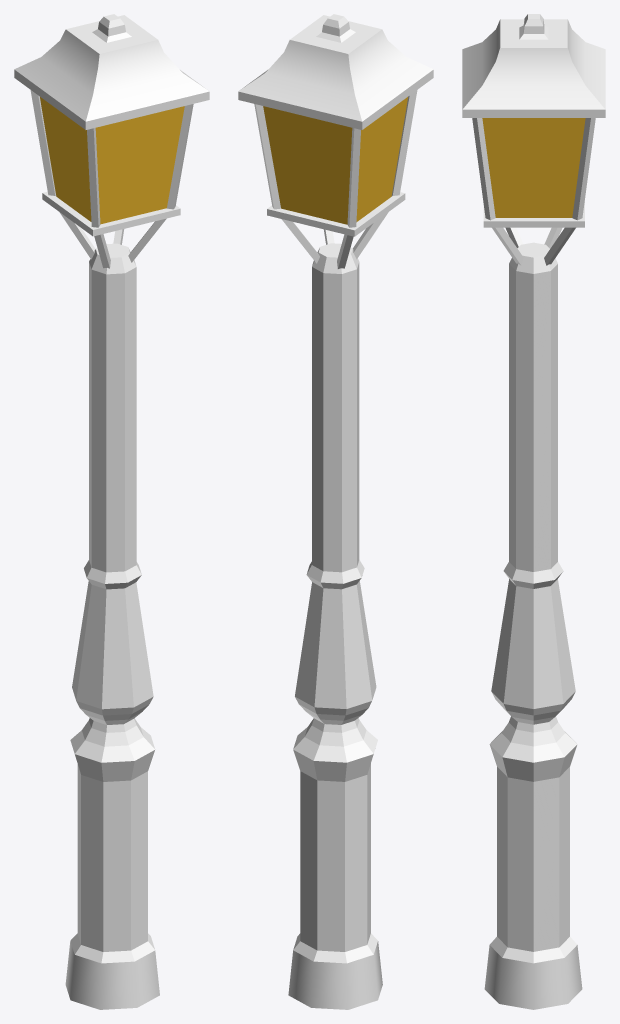
Rendered from street lamp.fbx.
The picture shows the model from 3 angles, left to right: view 1: azimuth 30°, elevation 25°; view 2: azimuth 150°, elevation 25°; view 3: azimuth 270°, elevation 25°; orthographic projection.
Parts seen in each view (by area): view 1: Cylinder006, Object080; view 2: Cylinder006, Object080; view 3: Cylinder006, Object080.
Part boxes in pixels (x1=…): Cylinder006: x1=14, y1=14, x2=209, y2=1009; Object080: x1=40, y1=97, x2=184, y2=224; Cylinder006: x1=238, y1=14, x2=433, y2=1009; Object080: x1=263, y1=97, x2=407, y2=224; Cylinder006: x1=462, y1=14, x2=605, y2=1009; Object080: x1=482, y1=118, x2=585, y2=217.
Bounding box in the file's own units: 35.46 × 266 × 35.46.
